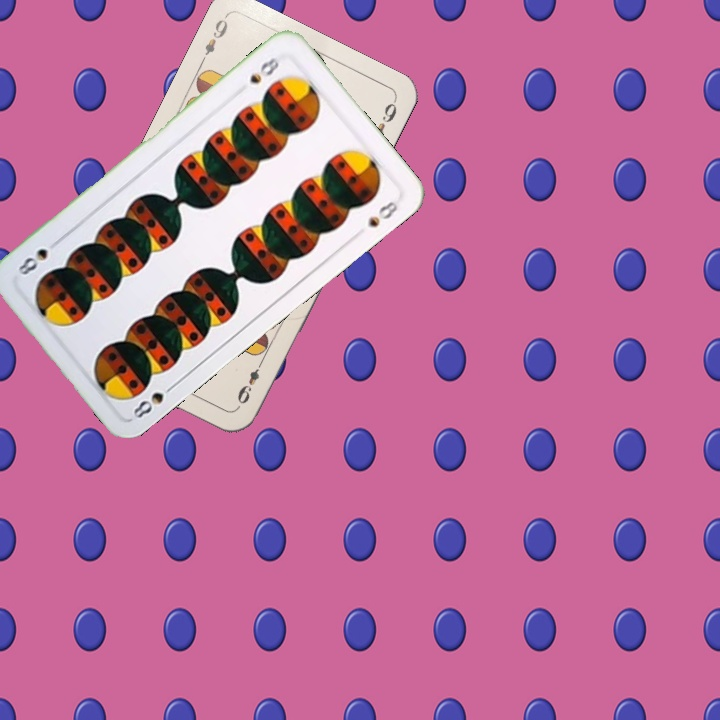E9: (196, 12, 231, 67), (233, 355, 267, 407)
S8: (128, 379, 179, 424), (245, 53, 282, 86)
